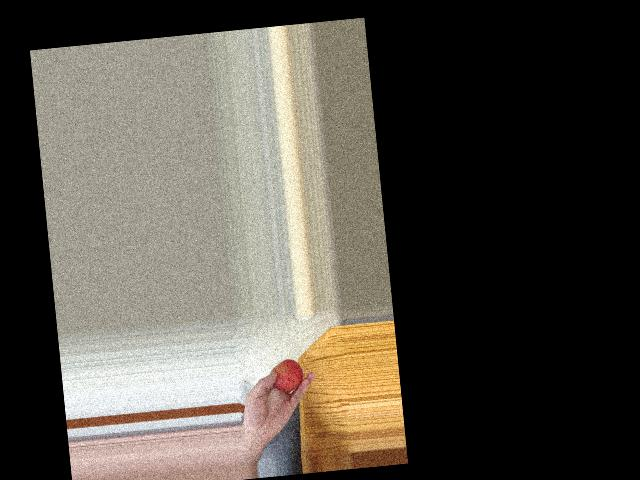apple: (266, 357, 304, 397)
